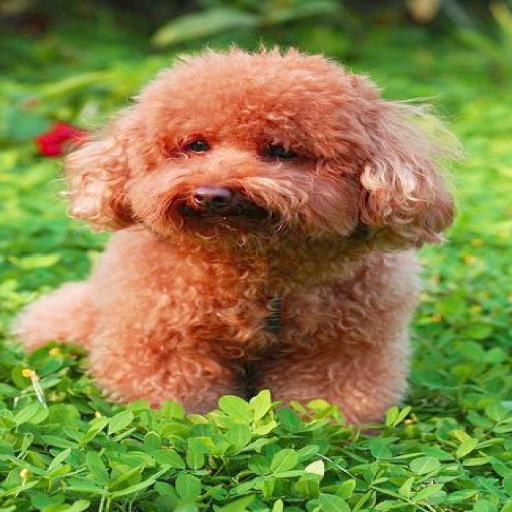dog_face: (62, 56, 438, 242)
